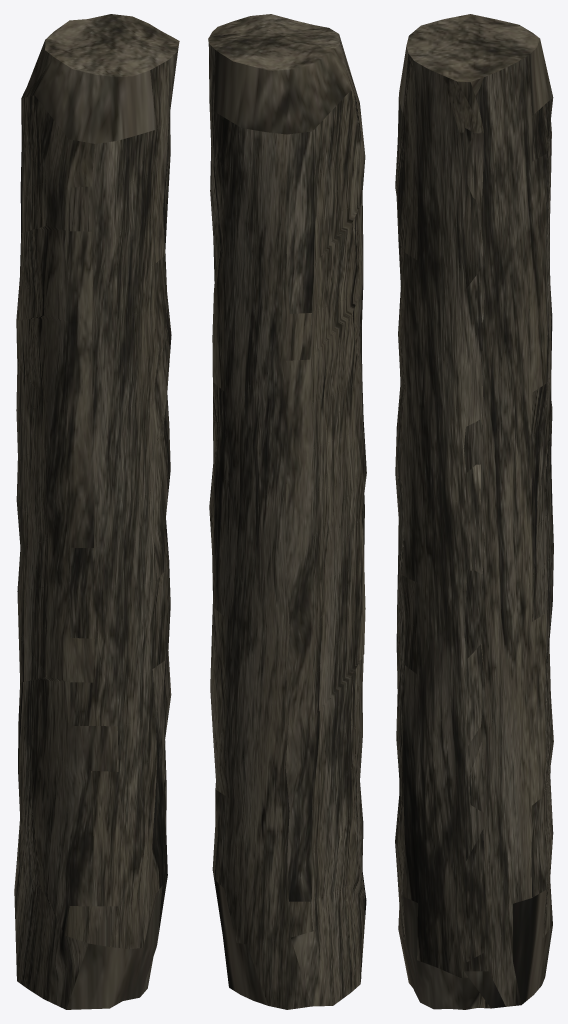
The model's file is columnTallTextured.fbx.
The picture shows the model from 3 angles, left to right: view 1: azimuth 30°, elevation 25°; view 2: azimuth 150°, elevation 25°; view 3: azimuth 270°, elevation 25°; orthographic projection. The views are drawn at different scales.
Visible parts, largest first — view 1: pCylinder1; view 2: pCylinder1; view 3: pCylinder1.
Boxes of the visible parts, x1,y1,x2,y2 form: pCylinder1: [14, 14, 179, 1009]; pCylinder1: [208, 14, 366, 1009]; pCylinder1: [395, 14, 553, 1009].
Size of the model in its own units: 99.58 by 628 by 93.95.
1 material, 1 textured.
